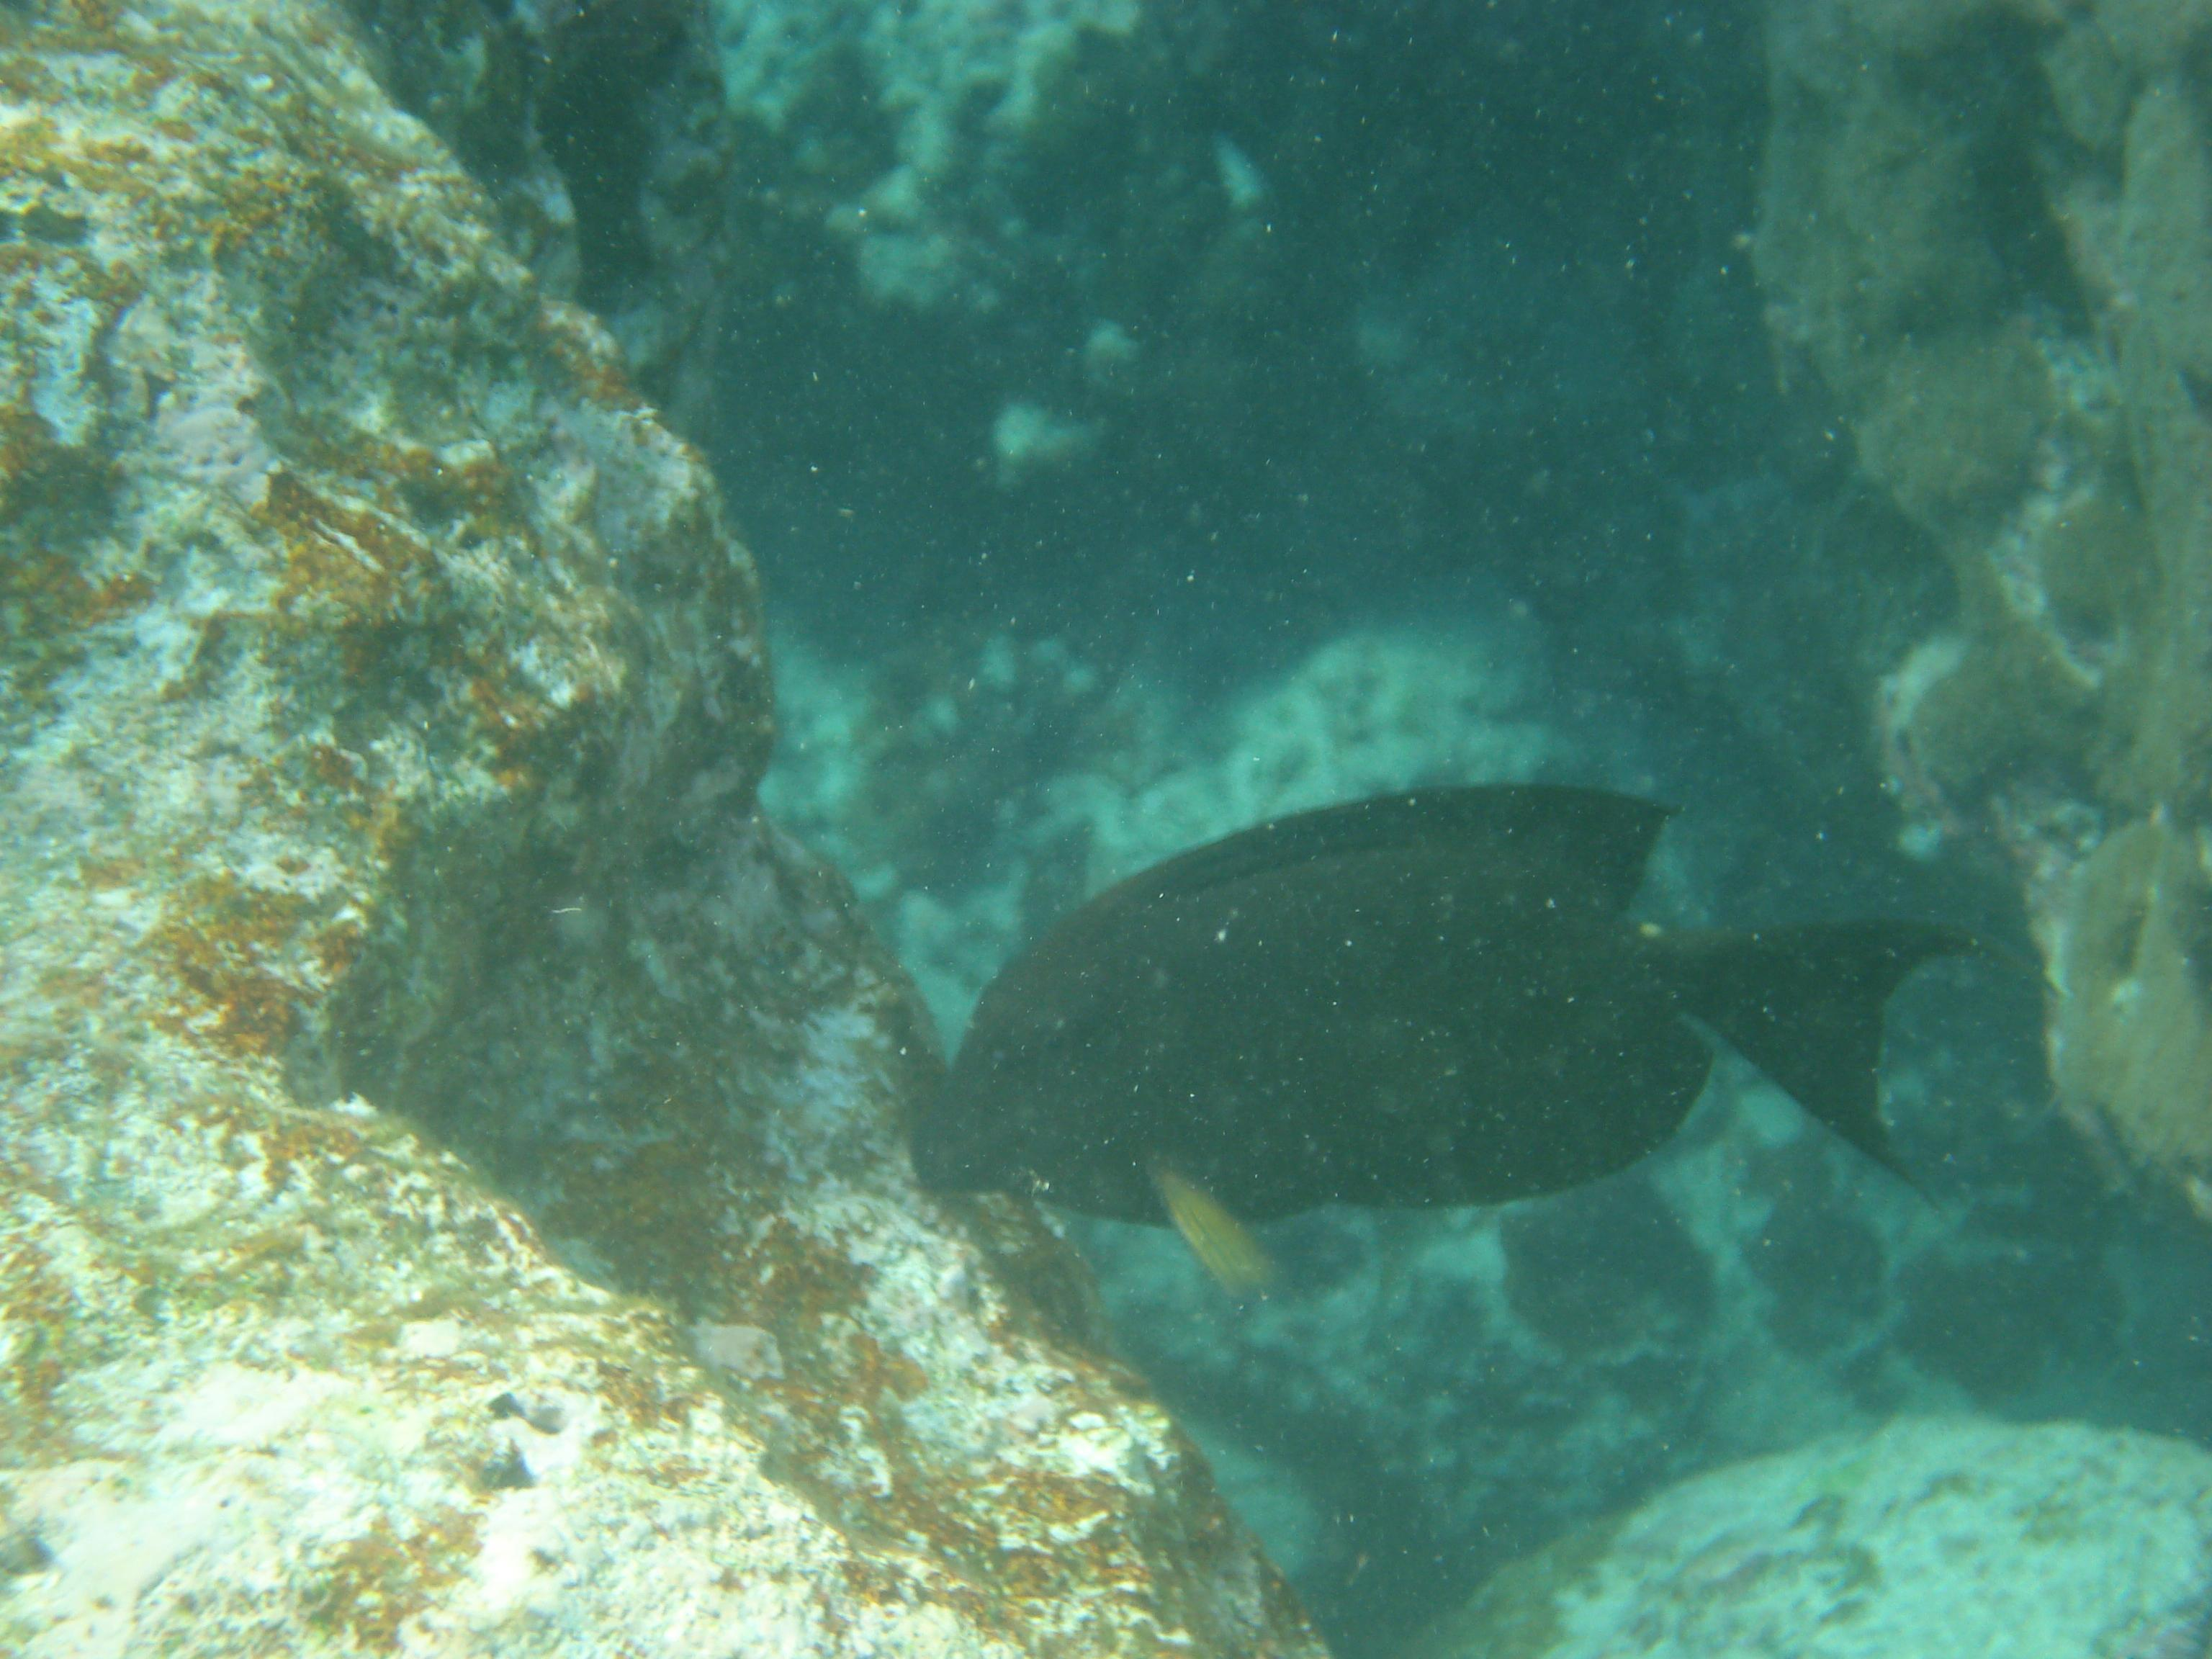Fish: (885, 751, 1994, 1358)
